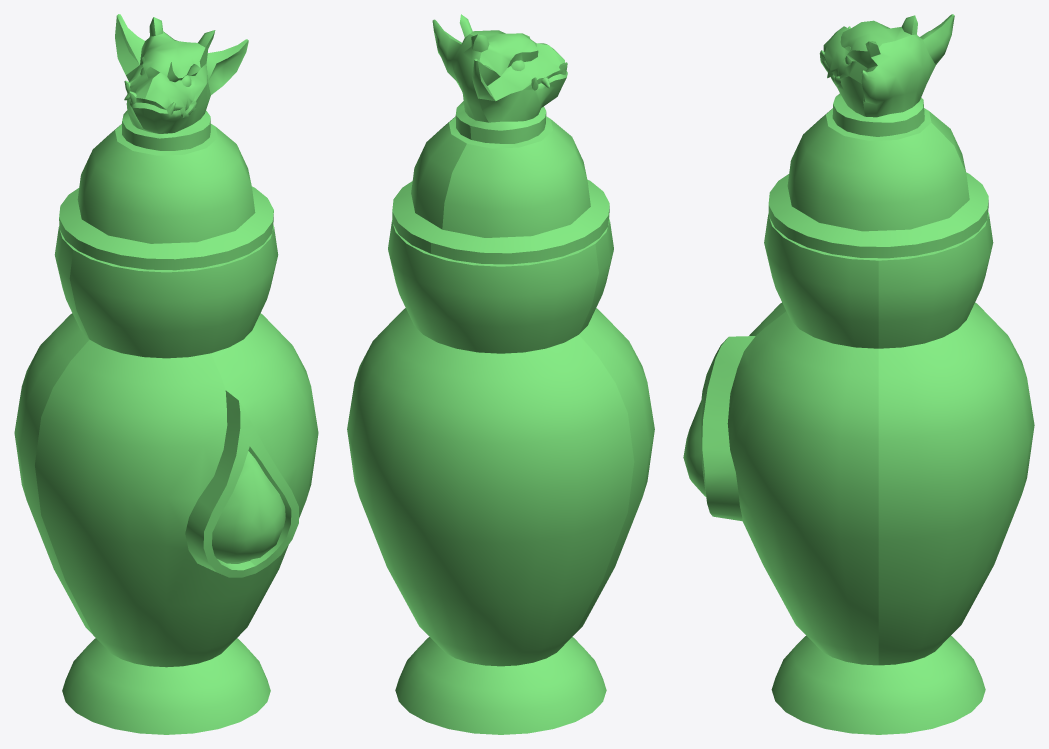
Rendered from SM_Gargoyle_Urn_2.fbx.
3 renders of one model, left to right at view 1: azimuth 30°, elevation 25°; view 2: azimuth 150°, elevation 25°; view 3: azimuth 270°, elevation 25°, orthographic. The views are drawn at different scales.
Parts seen in each view (by area): view 1: SM_Gargoyle_Urn_2; view 2: SM_Gargoyle_Urn_2; view 3: SM_Gargoyle_Urn_2.
Boxes of the visible parts, x1,y1,x2,y2 form: SM_Gargoyle_Urn_2: (14,14,318,734); SM_Gargoyle_Urn_2: (347,14,654,734); SM_Gargoyle_Urn_2: (683,14,1034,734).
Bounding box in the file's own units: 0.247 × 0.5915 × 0.2782.
